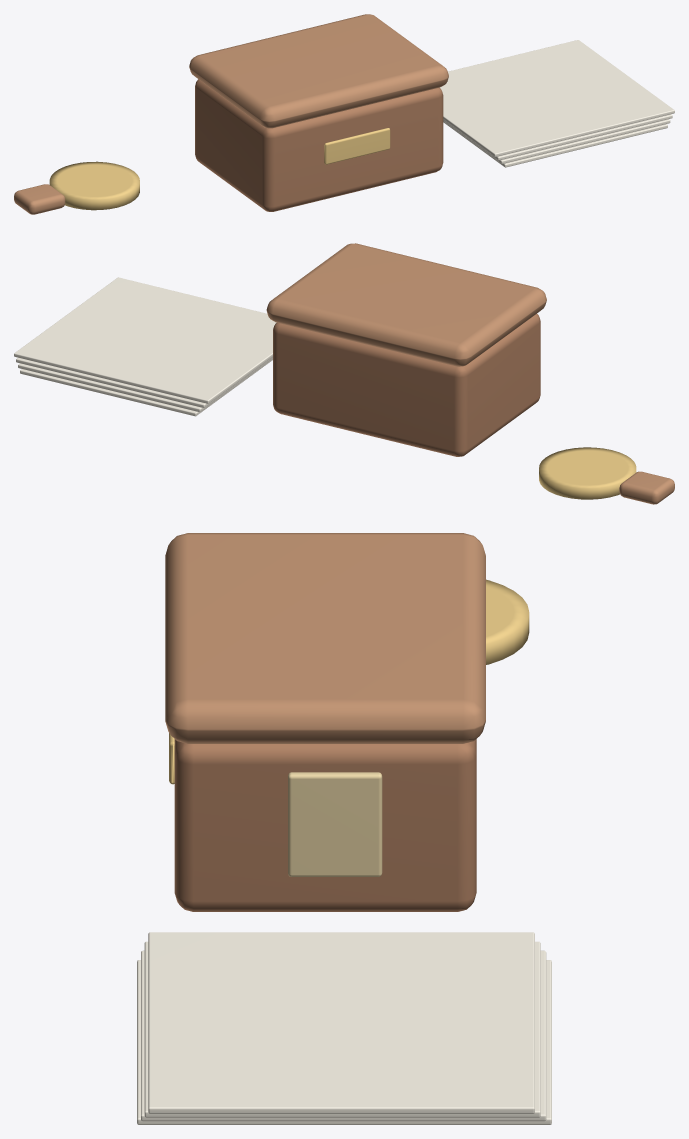
Rendered from evidence.glb.
The picture shows the model from 3 angles, top to bottom: view 1: azimuth 30°, elevation 25°; view 2: azimuth 150°, elevation 25°; view 3: azimuth 270°, elevation 25°; orthographic projection. The views are drawn at different scales.
Parts seen in each view (by area): view 1: box, lid, paper3, lensring, plate, maghandle, paper2, paper1, paper0; view 2: box, lid, paper3, lensring, maghandle, paper2, paper1, paper0; view 3: paper3, lid, box, tag, paper1, paper2, paper0, lensring.
Boxes of the visible parts, x1,y1,x2,y2 form: box: (195,79,443,211); lid: (189,14,448,128); paper3: (440,40,674,156); lensring: (49,161,139,210); plate: (324,128,390,164); maghandle: (14,184,65,214); paper2: (443,114,672,160); paper1: (443,119,670,163); paper0: (443,121,667,167); box: (273,314,540,456); lid: (266,243,546,366); paper3: (14,277,276,403); lensring: (539,447,636,499); maghandle: (619,471,674,504); paper2: (16,357,272,407); paper1: (18,358,272,412); paper0: (20,359,272,416); paper3: (148,932,534,1113); lid: (165,533,485,743); box: (174,739,476,911); tag: (288,772,382,876); paper1: (141,950,546,1121); paper2: (144,941,540,1117); paper0: (137,960,551,1124); lensring: (486,579,529,664).
Bounding box in the file's own units: 0.712 × 0.125 × 0.22.
